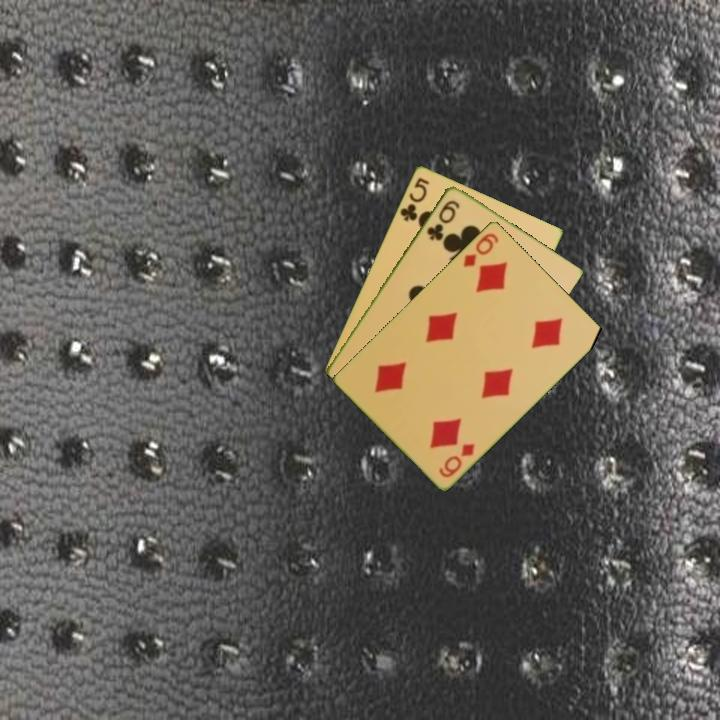5c: (396, 173, 432, 224)
6c: (423, 196, 463, 243)
6d: (435, 439, 478, 480), (460, 229, 501, 270)
